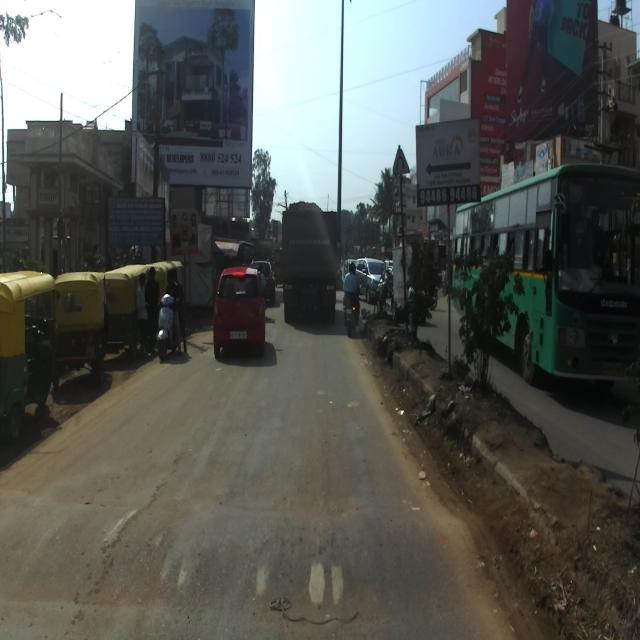Car_Hyundai: (211, 264, 271, 371)
Car_Toyota: (354, 256, 391, 304)
autorickshaw: (0, 270, 61, 447), (50, 270, 110, 388), (103, 264, 151, 360)
bus: (450, 162, 639, 398)
motorcycle_bajaj: (342, 283, 363, 336)
scooter: (156, 292, 183, 360)
truck: (282, 201, 338, 323)
